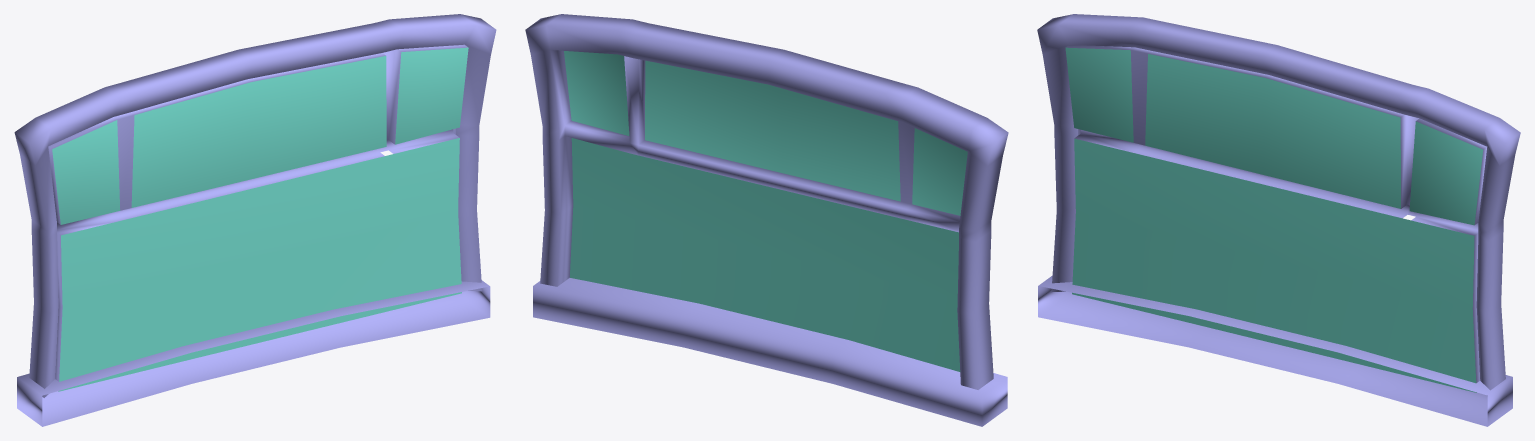
The model's file is Building_A_5.fbx.
3 views of the same model, side by side, from view 1: azimuth 30°, elevation 25°; view 2: azimuth 150°, elevation 25°; view 3: azimuth 330°, elevation 25° (orthographic).
Parts seen in each view (by area): view 1: Building_A_5; view 2: Building_A_5; view 3: Building_A_5.
Boxes of the visible parts, <box> form: Building_A_5: <box>14,14,496,426</box>; Building_A_5: <box>525,14,1008,426</box>; Building_A_5: <box>1037,14,1520,426</box>.
Size of the model in its own units: 241 by 152 by 22.71.
